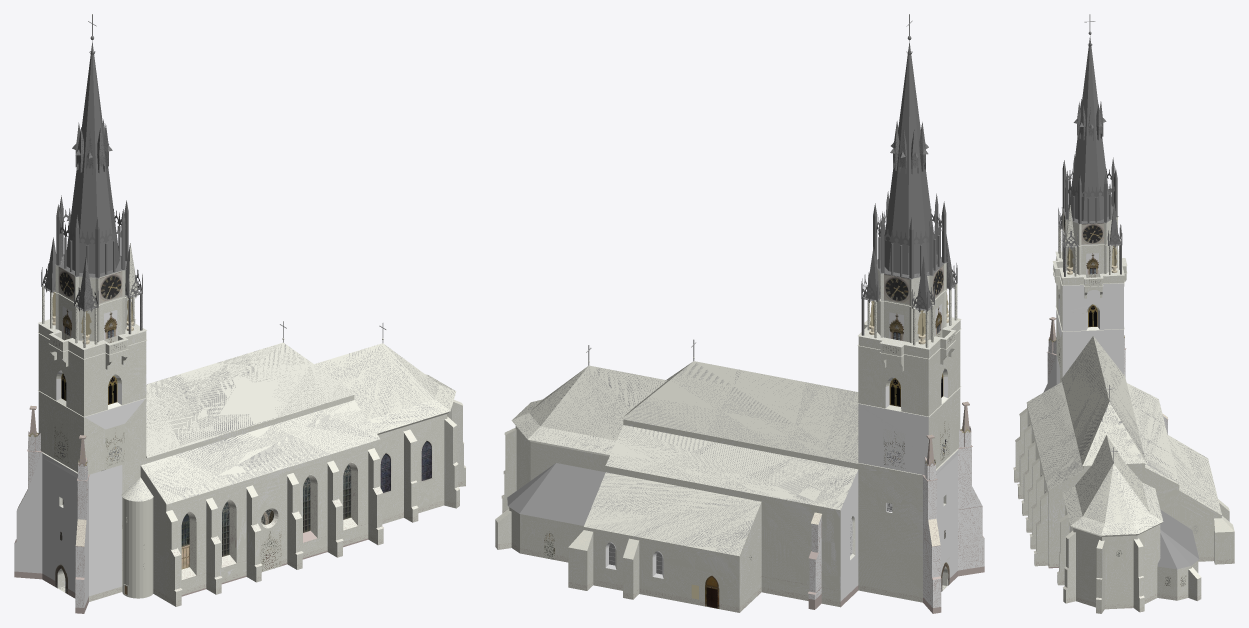
The model's file is farsky.glb.
The picture shows the model from 3 angles, left to right: view 1: azimuth 30°, elevation 25°; view 2: azimuth 150°, elevation 25°; view 3: azimuth 270°, elevation 25°; orthographic projection. The views are drawn at different scales.
Visible parts, largest first — view 1: material, Color_000, Color_006, Color_007, Color_B15, horné-hodiny-x, P3240007aa, dvere-balkonika; view 2: material, Color_000, Color_006, Color_007, Color_B15, horné-hodiny-x; view 3: material, Color_000, Color_006, Color_007, Color_B15, horné-hodiny-x, Color_005.
Part boxes in pixels (box(x1,y1,x2,y2)): material: box(38, 14, 465, 606); Color_000: box(14, 265, 465, 607); Color_006: box(141, 344, 455, 503); Color_007: box(41, 36, 382, 347); Color_B15: box(14, 405, 465, 613); horné-hodiny-x: box(58, 267, 122, 303); P3240007aa: box(380, 441, 431, 492); dvere-balkonika: box(62, 306, 117, 339); material: box(495, 14, 961, 612); Color_000: box(495, 274, 984, 607); Color_006: box(507, 363, 858, 574); Color_007: box(861, 36, 957, 345); Color_B15: box(495, 401, 984, 613); horné-hodiny-x: box(884, 265, 943, 304); material: box(1013, 205, 1234, 613); Color_000: box(1014, 216, 1234, 608); Color_006: box(1028, 338, 1220, 569); Color_007: box(1058, 31, 1122, 276); Color_B15: box(1014, 317, 1234, 613); horné-hodiny-x: box(1063, 212, 1103, 244); Color_005: box(1027, 14, 1178, 522).
Size of the model in its own units: 61.79 by 77.02 by 34.17.
Materials: 55 (34 with a texture image).
